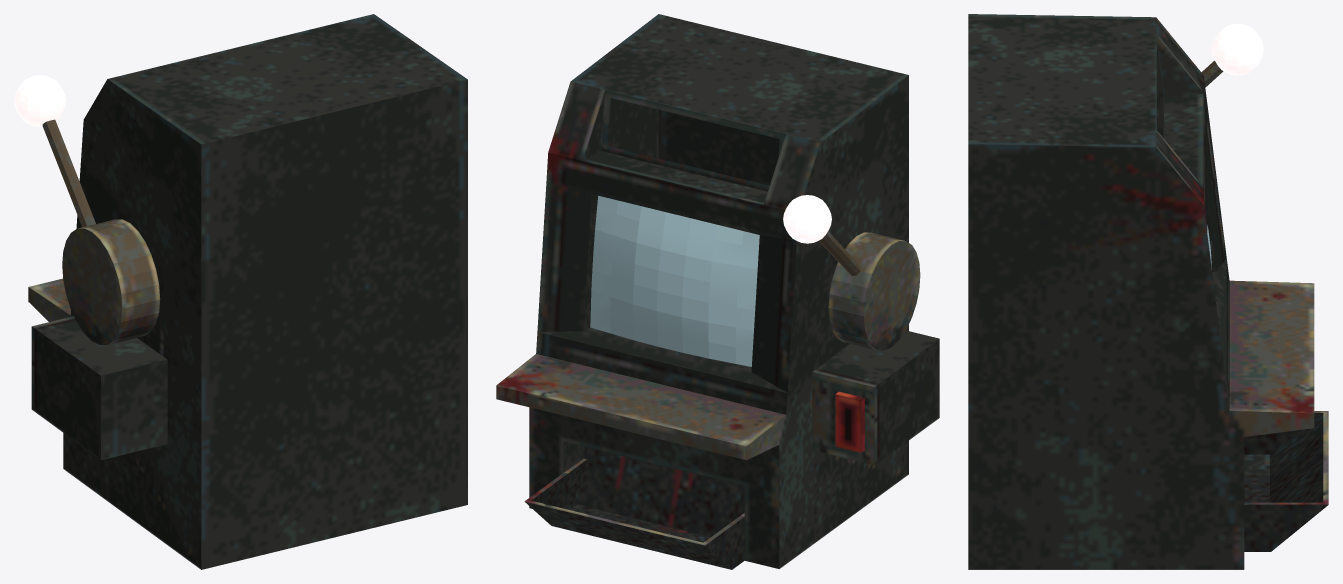
The picture shows the model from 3 angles, left to right: view 1: azimuth 30°, elevation 25°; view 2: azimuth 150°, elevation 25°; view 3: azimuth 270°, elevation 25°; orthographic projection. The views are drawn at different scales.
Parts seen in each view (by area): view 1: Mesh_Slotmachine, Cube_004; view 2: Mesh_Slotmachine, Mesh_SlotmachineScreen, Cube_004; view 3: Mesh_Slotmachine, Cube_004.
Boxes of the visible parts, <box> form: Mesh_Slotmachine: <box>28,14,467,569</box>; Cube_004: <box>14,75,160,344</box>; Mesh_Slotmachine: <box>496,14,939,569</box>; Mesh_SlotmachineScreen: <box>590,195,759,366</box>; Cube_004: <box>783,195,920,350</box>; Mesh_Slotmachine: <box>968,14,1328,569</box>; Cube_004: <box>1201,23,1263,87</box>.
Size of the model in its own units: 2.5 by 3.05 by 2.34.
Materials: 2 (1 with a texture image).
